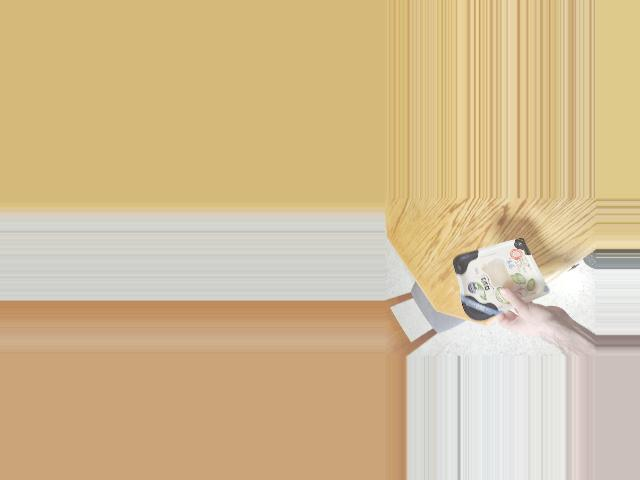cheese: (451, 239, 534, 323)
